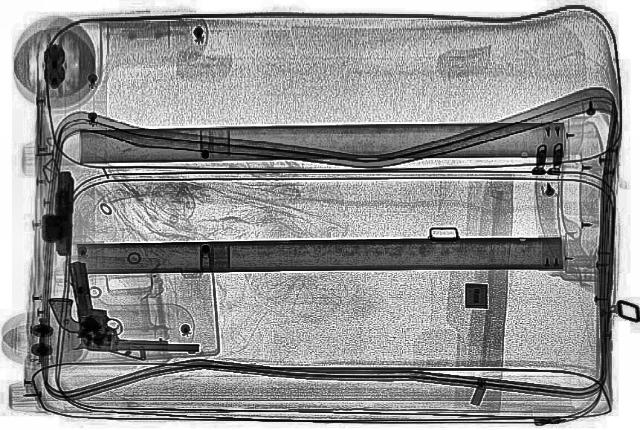Gun: (70, 259, 198, 355), (35, 167, 83, 257)
